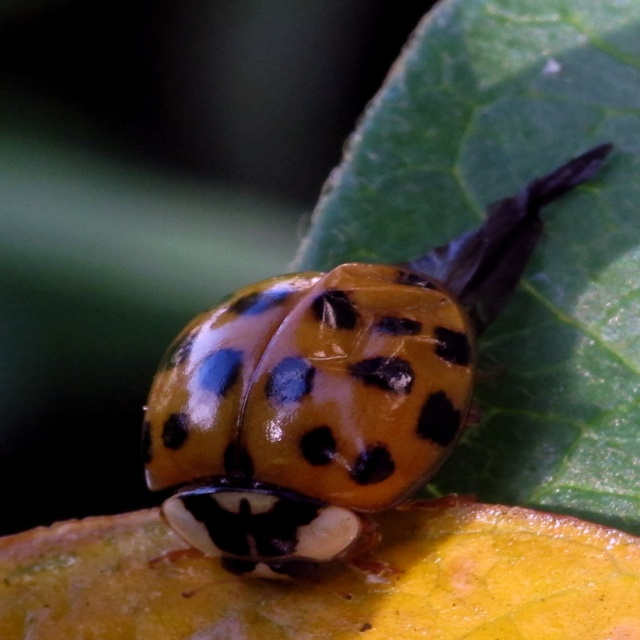Ladybug: (142, 259, 483, 601)
